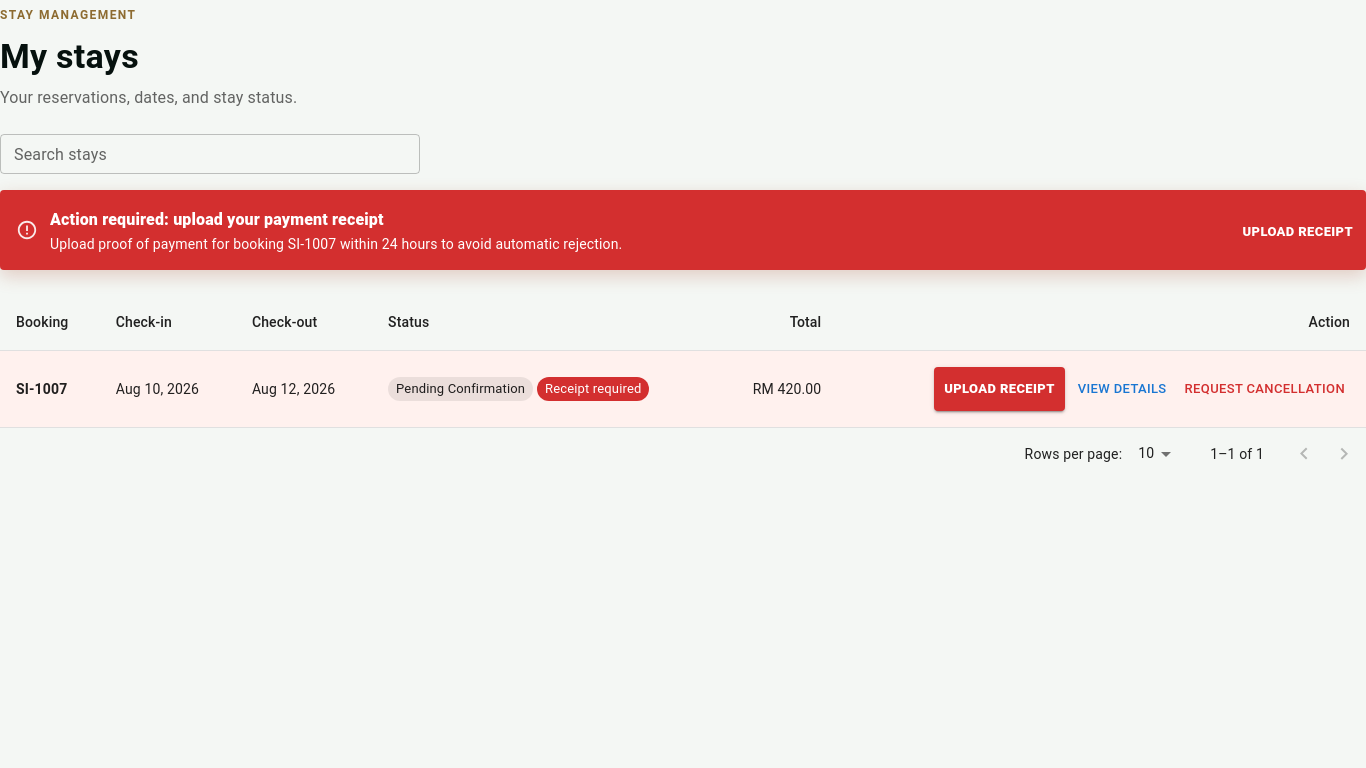
Test: BookingsSection payment details › makes an outstanding receipt request a prominent upload action
The image size is (1366, 768).
Expected: the heading "Action required: upload your payment receipt" is shown, [50, 210, 384, 229]
Expected: the text "Receipt required" is shown, [537, 379, 650, 399]
Click the button "Upload receipt" in the row of "Upload proof of payment for booking". click: click(1298, 232)
box: [1238, 216, 1358, 247]
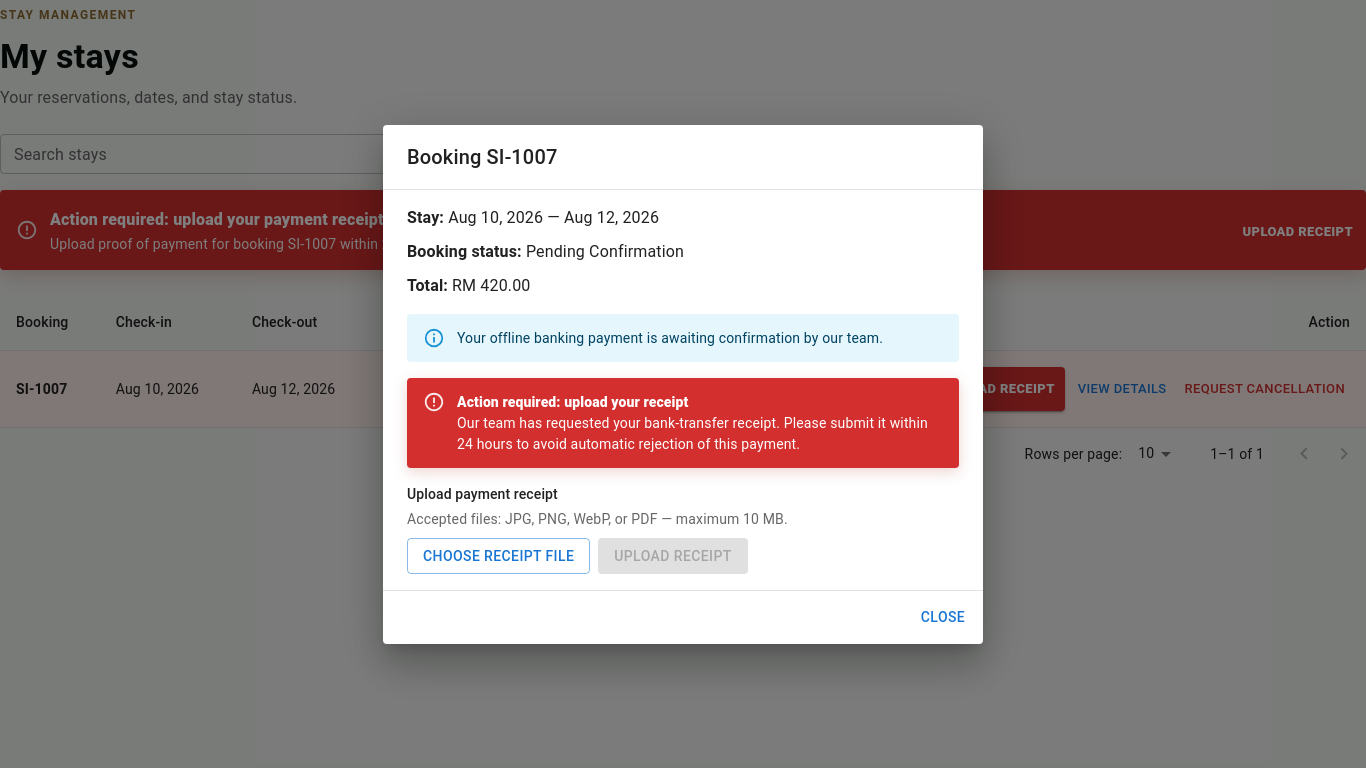
Expected: the dialog is shown, [383, 124, 983, 644]
Expected: the heading "Upload payment receipt" is shown, [407, 486, 558, 502]
